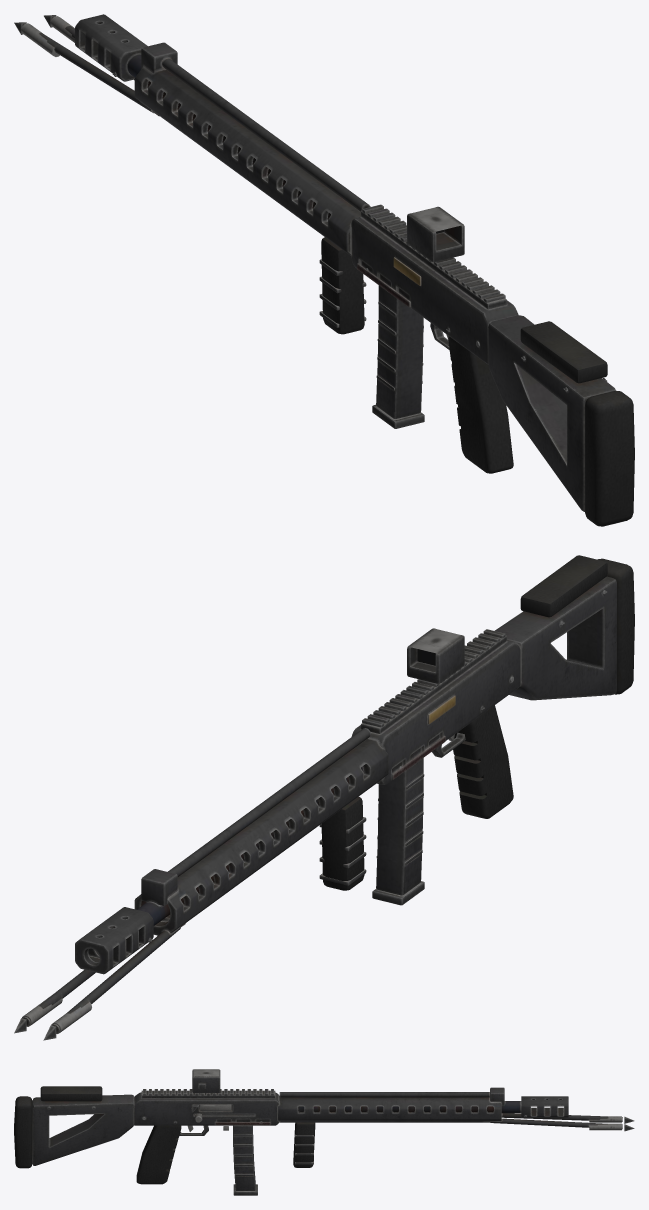
File: defender_heavy_round_rifle.glb
3 views of the same model, one above another, from view 1: azimuth 30°, elevation 25°; view 2: azimuth 150°, elevation 25°; view 3: azimuth 270°, elevation 25° (orthographic). The views are drawn at different scales.
Visible parts, largest first — view 1: defender_heavy_round_rifle; view 2: defender_heavy_round_rifle; view 3: defender_heavy_round_rifle.
Boxes of the visible parts, x1,y1,x2,y2 form: defender_heavy_round_rifle: [14, 14, 634, 526]; defender_heavy_round_rifle: [14, 555, 634, 1040]; defender_heavy_round_rifle: [14, 1069, 634, 1195].
Size of the model in its own units: 0.078 by 0.3055 by 1.45.
Materials: 1 (1 with a texture image).
